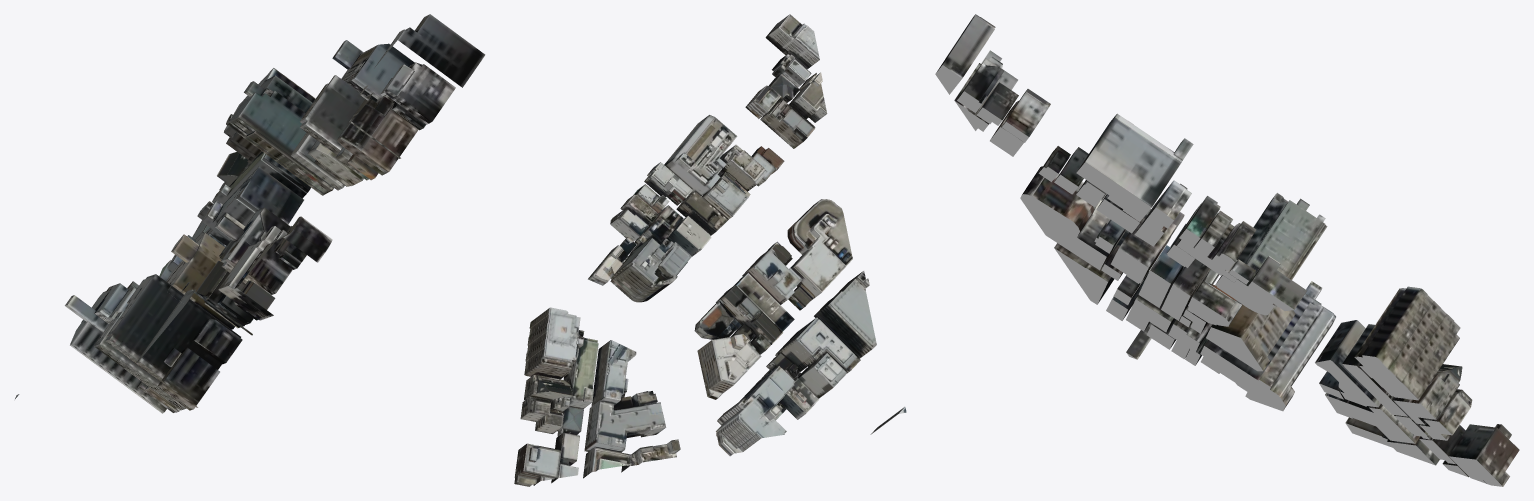
The model's file is 19765_bldg_Building.glb.
The picture shows the model from 3 angles, left to right: view 1: azimuth 30°, elevation 25°; view 2: azimuth 150°, elevation 25°; view 3: azimuth 270°, elevation 25°; orthographic projection. The views are drawn at different scales.
Size of the model in its own units: 130 by 138 by 169.
2 materials, 1 textured.
